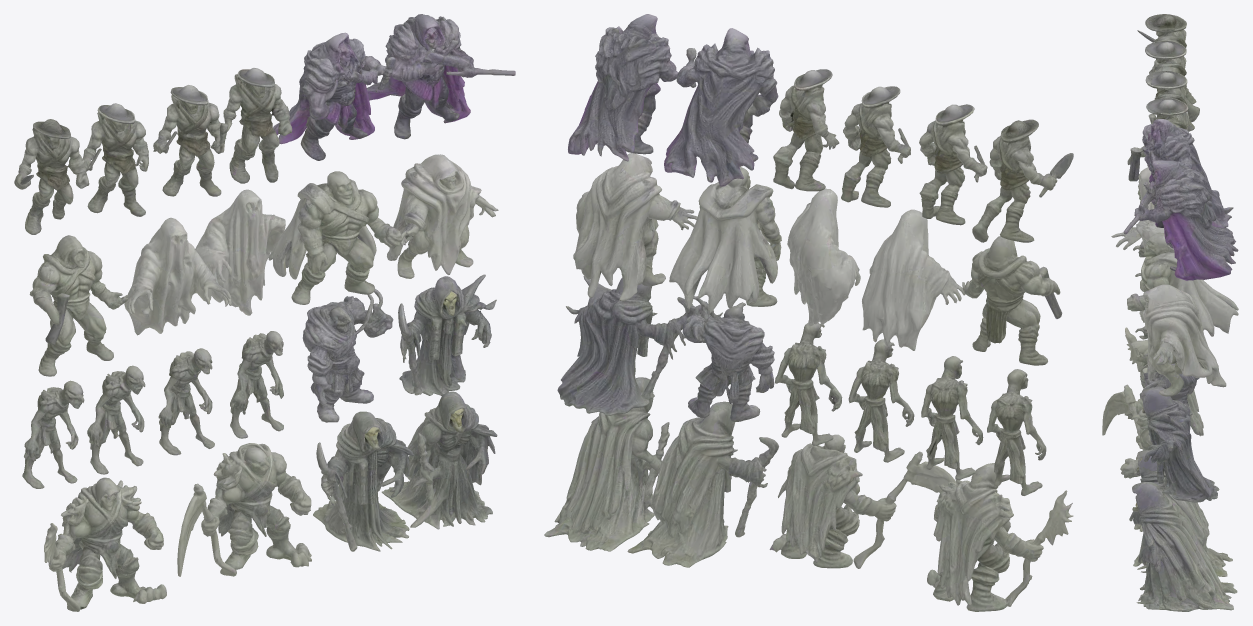
File: enemies_undead_b.glb
The picture shows the model from 3 angles, left to right: view 1: azimuth 30°, elevation 25°; view 2: azimuth 150°, elevation 25°; view 3: azimuth 270°, elevation 25°; orthographic projection. The views are drawn at different scales.
Size of the model in its own units: 1.88 by 1.89 by 0.5381.
1 material, 1 textured.
